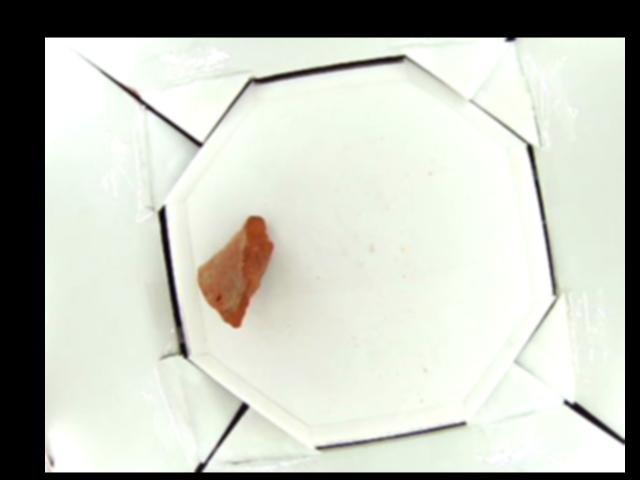Brisk: (197, 215, 273, 326)
